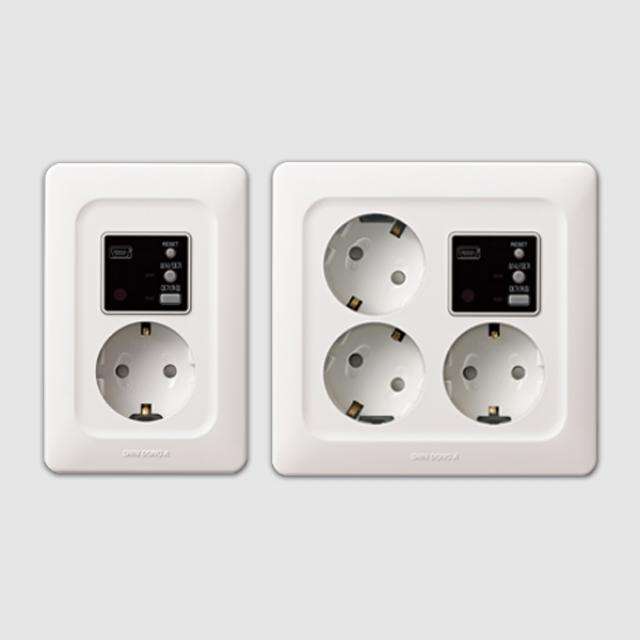typeb: (311, 321, 443, 428), (85, 319, 202, 434), (311, 196, 431, 308), (442, 326, 558, 438)
